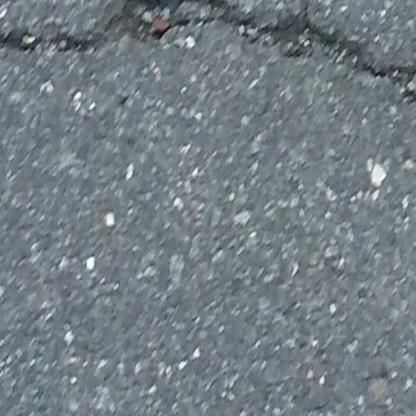Cracks: (0, 0, 416, 111)
